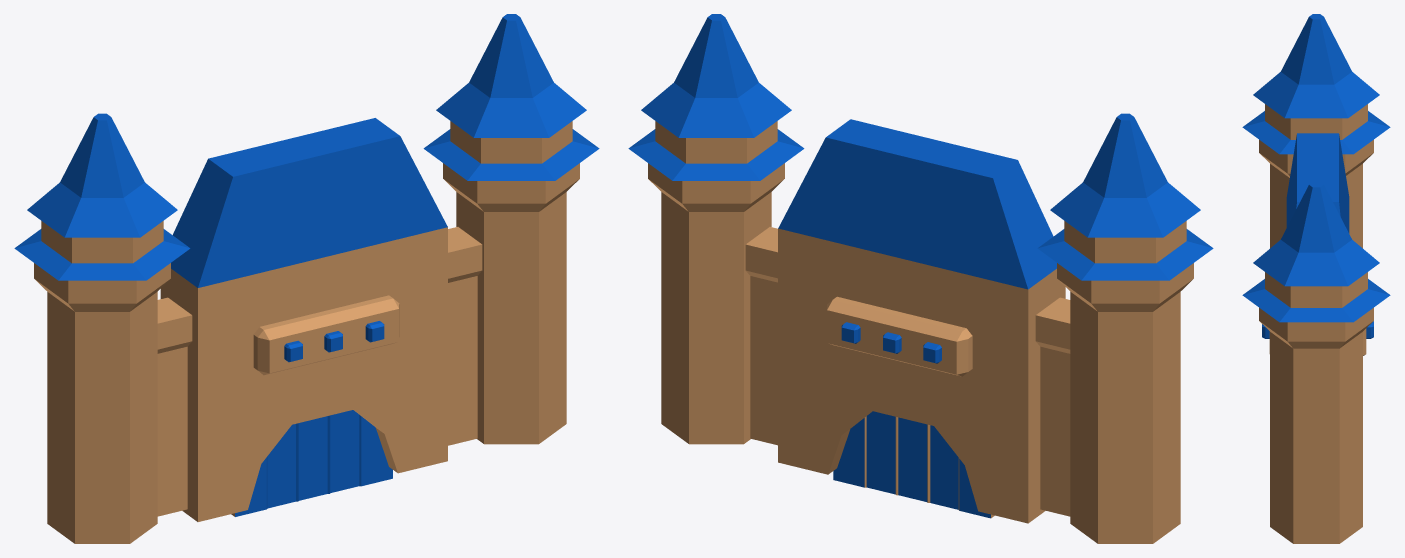
Rendered from Castle Gate Closed_Textured.fbx.
3 views of the same model, side by side, from view 1: azimuth 30°, elevation 25°; view 2: azimuth 150°, elevation 25°; view 3: azimuth 270°, elevation 25° (orthographic). The views are drawn at different scales.
Visible parts, largest first — view 1: GateClosed; view 2: GateClosed; view 3: GateClosed.
Boxes of the visible parts, x1,y1,x2,y2 form: GateClosed: [14, 14, 599, 543]; GateClosed: [628, 14, 1213, 543]; GateClosed: [1242, 14, 1390, 543].
Bounding box in the file's own units: 1134 × 848 × 320.
